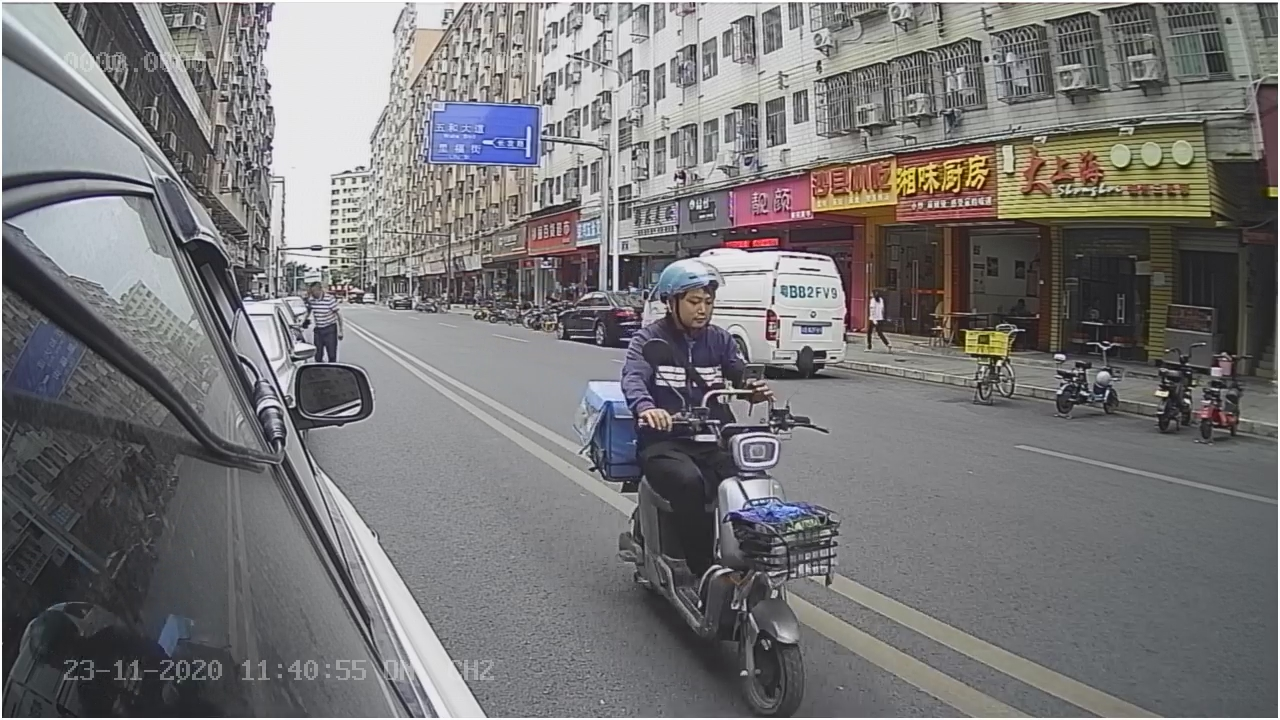person: (618, 257, 752, 404)
